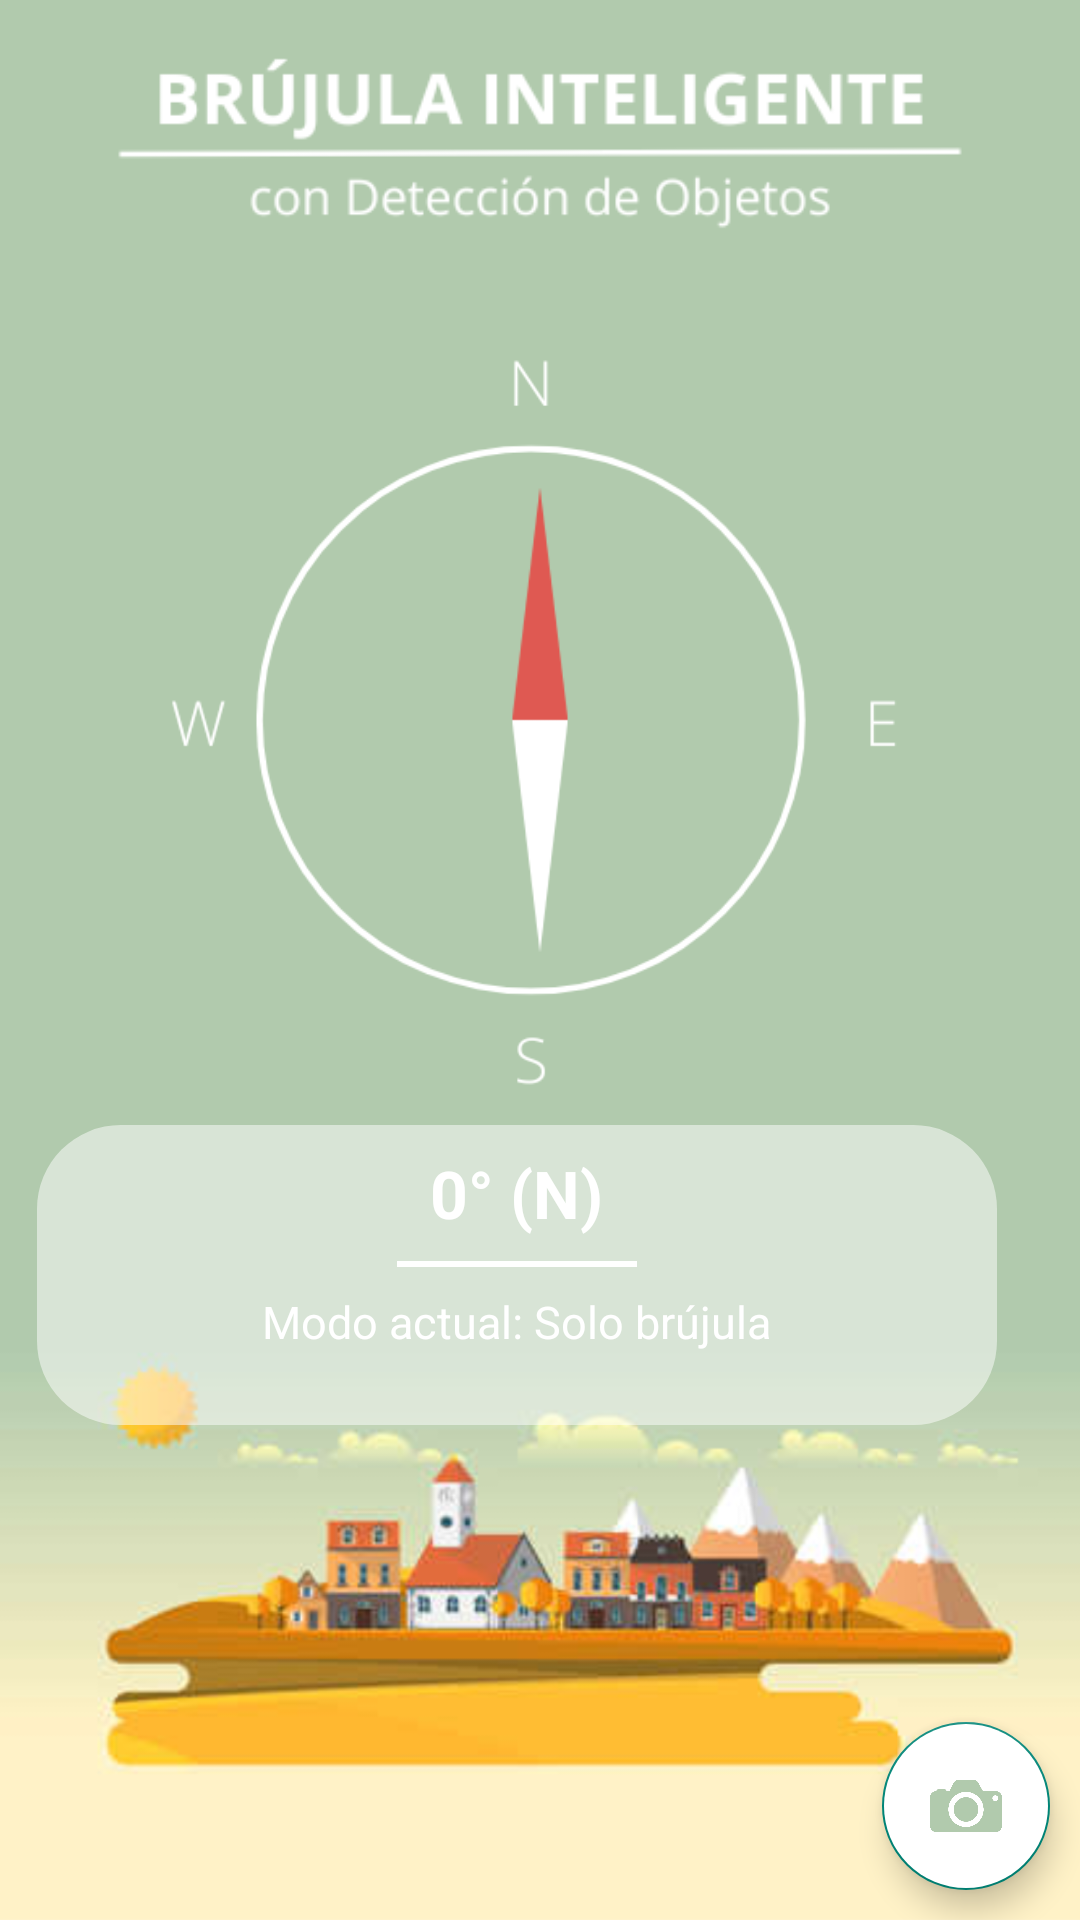

Icons on this 1080 x 1920 Android screen, each with its box as {"x1": x1, "y1": y1, "x2": x2, "y2": y2}:
Abrir cámara: {"x1": 882, "y1": 1722, "x2": 1050, "y2": 1890}
